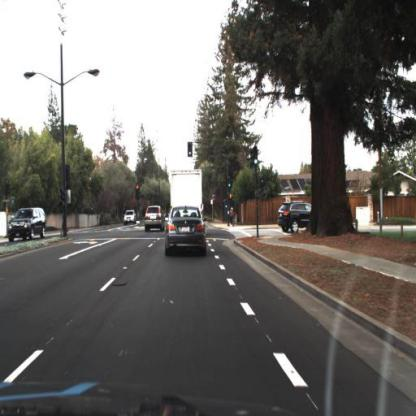car: (164, 205, 208, 259), (7, 208, 49, 242), (168, 170, 205, 206), (275, 201, 314, 235), (144, 207, 167, 236), (122, 203, 139, 229), (123, 208, 137, 228)
pedestrian: (228, 206, 240, 231)
trafficLight: (135, 182, 141, 200)
trafficLight-Green: (185, 142, 196, 160), (252, 149, 261, 170), (228, 176, 235, 196), (187, 141, 193, 159)
trafficLight-GreenLeft: (252, 144, 261, 168)
trafficLight-RedLeft: (134, 182, 142, 200)
truck: (170, 168, 204, 219)
